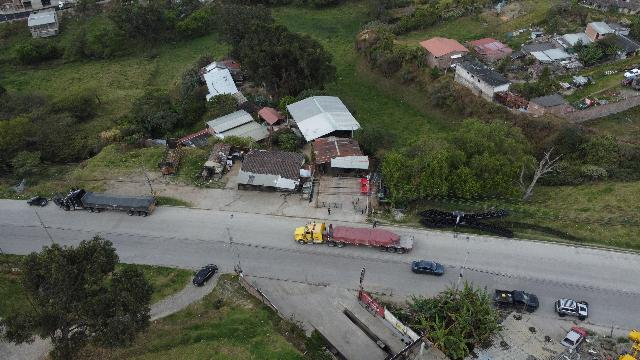Vehiculo: (492, 289, 539, 311), (555, 299, 588, 320), (560, 327, 586, 351), (192, 264, 218, 286), (412, 260, 444, 276), (624, 68, 640, 78)
